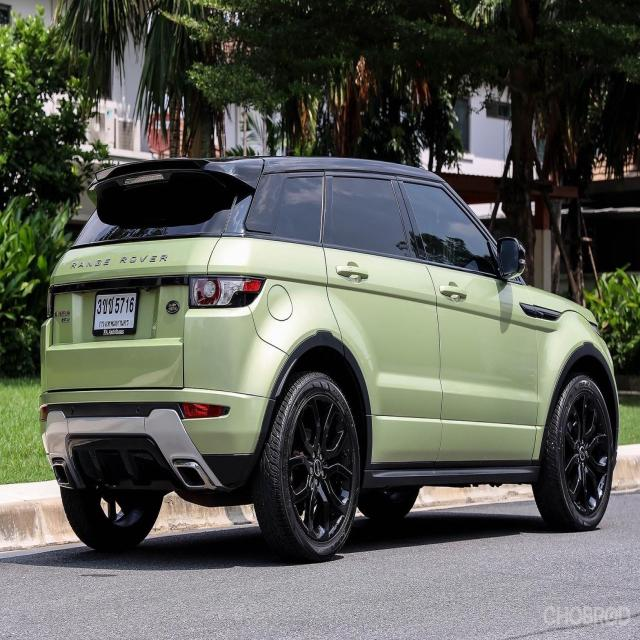license_plate: (91, 286, 140, 339)
